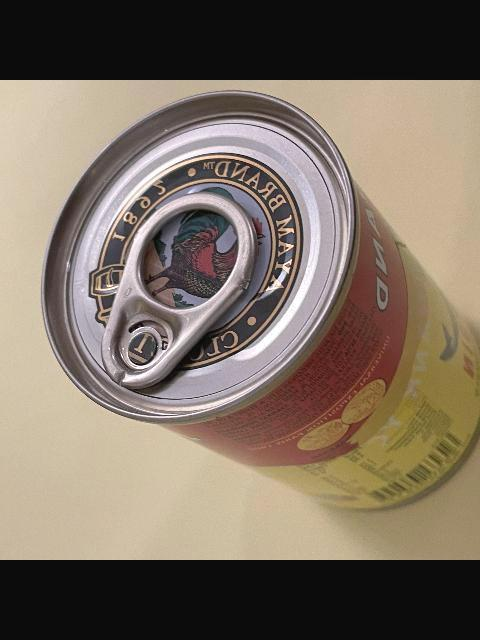foodcan: (36, 89, 480, 515)
